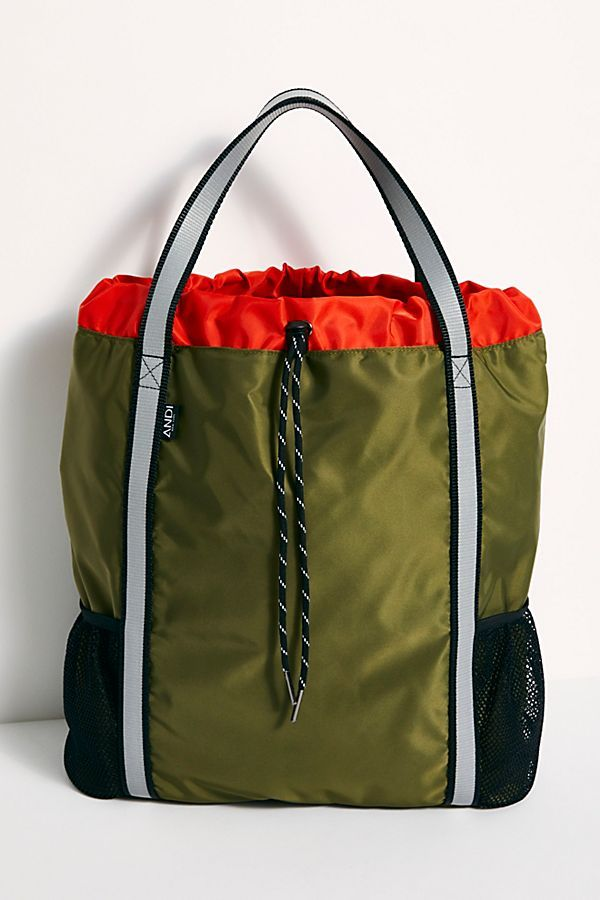nylon: (62, 265, 546, 810)
